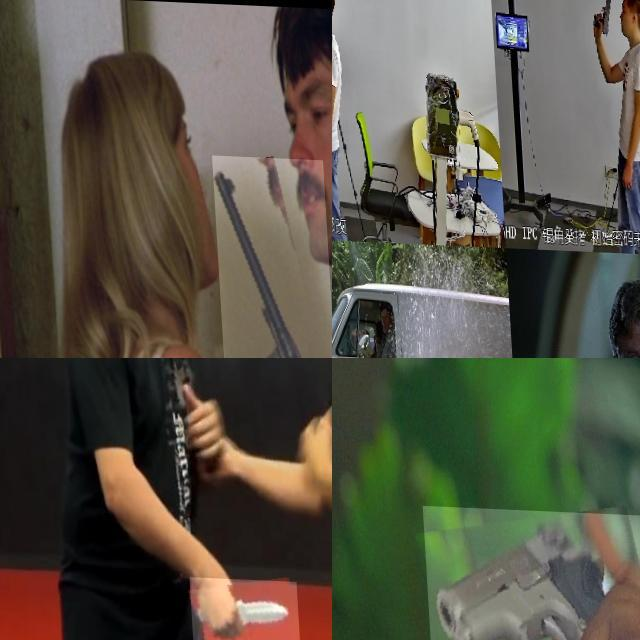-: (183, 574, 293, 640)
gun-knife-thesis - v11 Yolov5 augmented: (420, 504, 640, 640), (210, 152, 332, 358), (588, 0, 611, 31), (332, 0, 347, 23)
